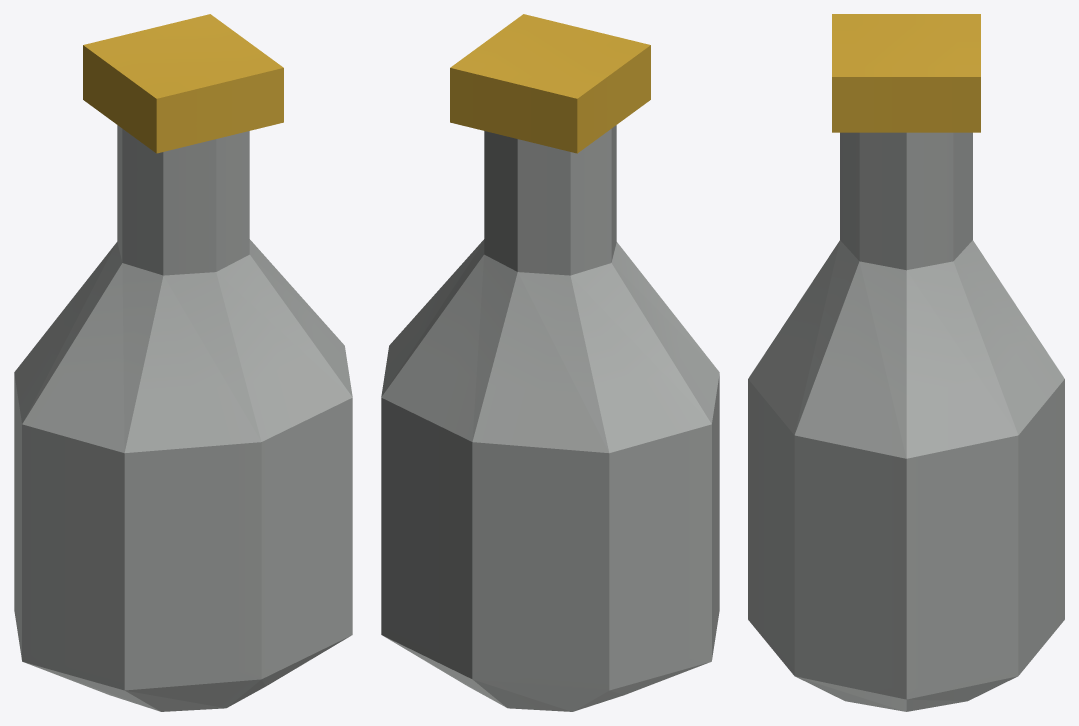
File: fertility_potion.obj
The picture shows the model from 3 angles, left to right: view 1: azimuth 30°, elevation 25°; view 2: azimuth 150°, elevation 25°; view 3: azimuth 270°, elevation 25°; orthographic projection.
Visible parts, largest first — view 1: pink_fertility_vial_with_glass_shoulder_neck_and_stopper; view 2: pink_fertility_vial_with_glass_shoulder_neck_and_stopper; view 3: pink_fertility_vial_with_glass_shoulder_neck_and_stopper.
Boxes of the visible parts, bbox=[...] form: pink_fertility_vial_with_glass_shoulder_neck_and_stopper: bbox=[14, 14, 352, 711]; pink_fertility_vial_with_glass_shoulder_neck_and_stopper: bbox=[381, 14, 719, 711]; pink_fertility_vial_with_glass_shoulder_neck_and_stopper: bbox=[748, 14, 1064, 711].
Size of the model in its own units: 0.2313 by 0.425 by 0.1938.
